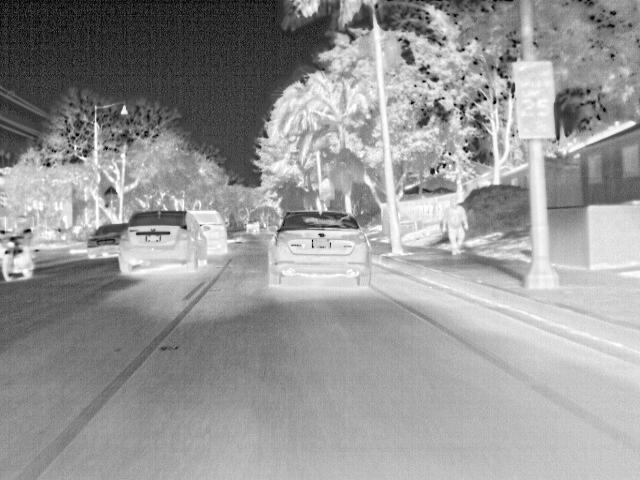car: (265, 210, 372, 289), (117, 210, 207, 275), (186, 209, 227, 254), (85, 223, 126, 260)
person: (440, 196, 469, 256), (10, 214, 29, 250)
